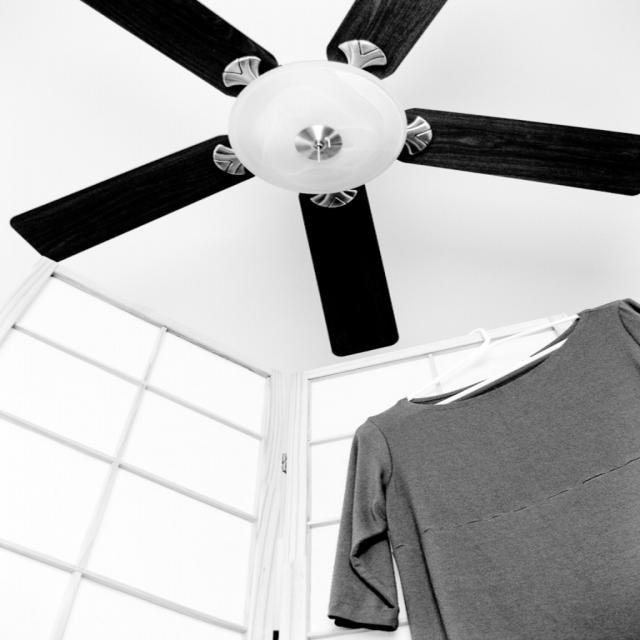Bulb: (8, 0, 639, 355)
